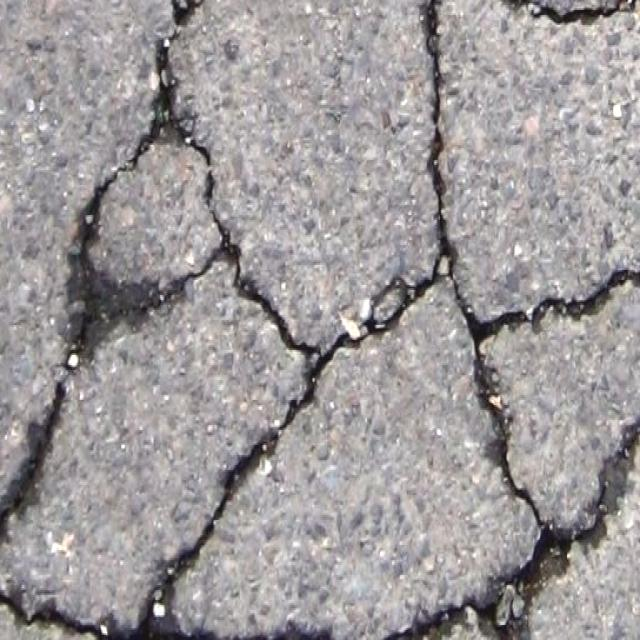crack: (162, 352, 332, 582), (471, 348, 638, 540), (292, 268, 638, 352), (0, 322, 84, 538), (386, 553, 576, 638), (154, 2, 224, 204), (210, 208, 292, 352), (417, 0, 458, 267), (1, 580, 186, 638), (76, 123, 154, 251), (85, 252, 211, 328), (499, 2, 639, 34)
